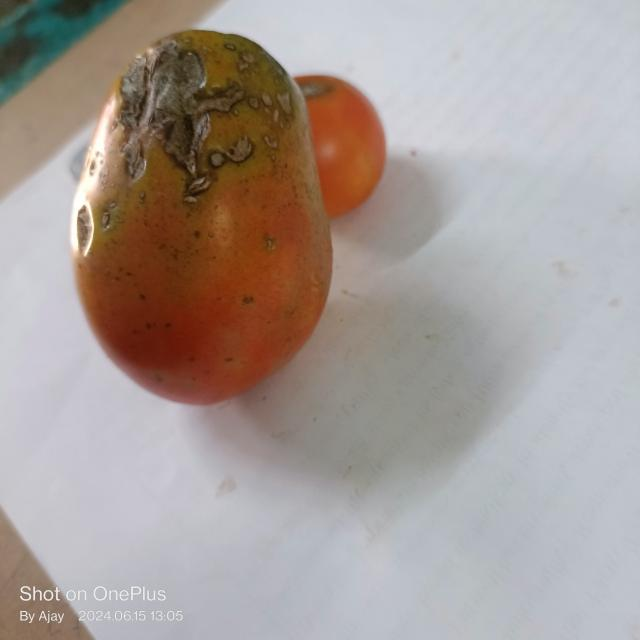Bacterial_Spot: (122, 70, 212, 196), (216, 86, 257, 171), (152, 46, 198, 66), (272, 89, 290, 123), (238, 52, 258, 75), (264, 136, 278, 148), (266, 238, 276, 250), (225, 43, 233, 49), (264, 54, 272, 58), (273, 60, 276, 70)
